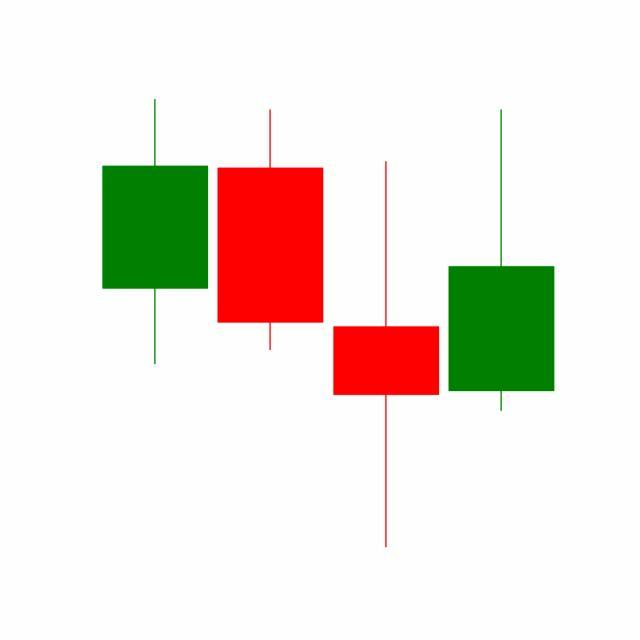Upside-Downside Gap Three Methods: (211, 105, 555, 548)
